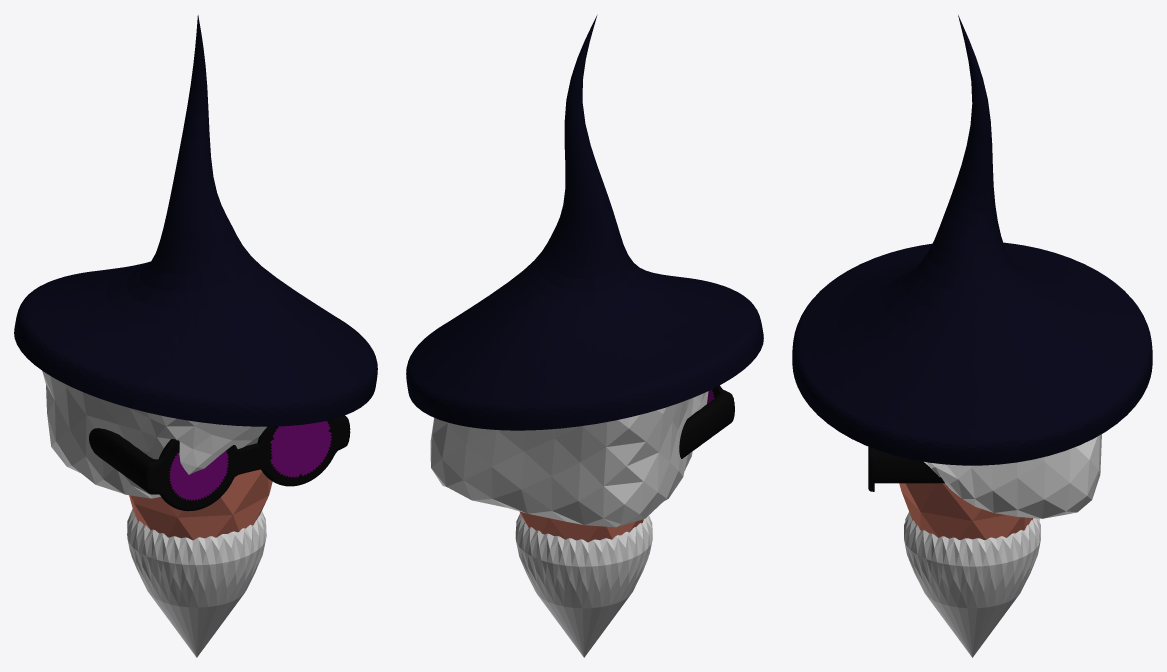
The model's file is Wizard.obj.
3 renders of one model, left to right at view 1: azimuth 30°, elevation 25°; view 2: azimuth 150°, elevation 25°; view 3: azimuth 270°, elevation 25°, orthographic.
Parts seen in each view (by area): view 1: Circle; view 2: Circle; view 3: Circle.
Part boxes in pixels (bbox=[...]): Circle: bbox=[14, 15, 377, 657]; Circle: bbox=[406, 15, 763, 657]; Circle: bbox=[792, 15, 1152, 657].
Bounding box in the file's own units: 2.58 × 5.11 × 2.6.
